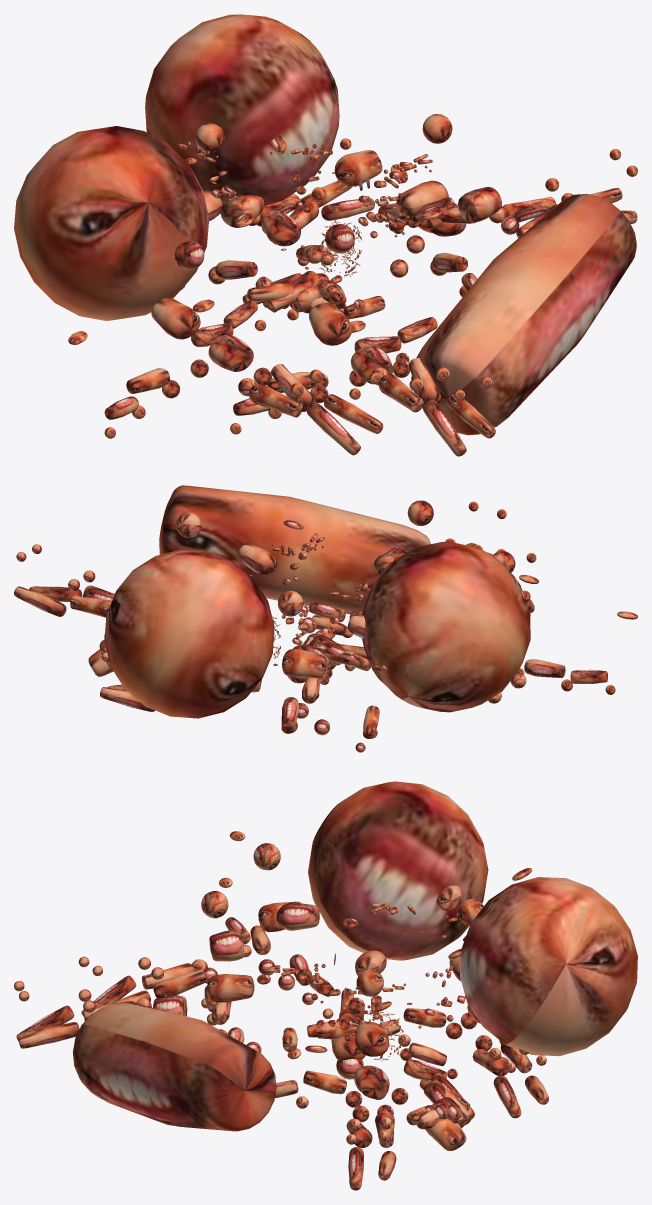
Rendered from SEPERATED_scene_1.1.2_asset.fbx.
The picture shows the model from 3 angles, top to bottom: view 1: azimuth 30°, elevation 25°; view 2: azimuth 150°, elevation 25°; view 3: azimuth 270°, elevation 25°; orthographic projection. The views are drawn at different scales.
Visible parts, largest first — view 1: polySurface607, polySurface613, polySurface608, polySurface705, polySurface676, polySurface648, polySurface583, polySurface731, polySurface641, polySurface761, polySurface699, polySurface724 (+20 smaller); view 2: polySurface608, polySurface607, polySurface613, polySurface709, polySurface583, polySurface537, polySurface727, polySurface589, polySurface691, polySurface760, polySurface695, polySurface574 (+9 smaller); view 3: polySurface608, polySurface607, polySurface613, polySurface676, polySurface761, polySurface731, polySurface648, polySurface641, polySurface586, polySurface726, polySurface599, polySurface646 (+11 smaller).
Boxes of the visible parts, x1,y1,x2,y2 form: polySurface607: (14,126,209,320); polySurface613: (411,194,636,435); polySurface608: (145,14,339,205); polySurface705: (151,297,200,339); polySurface676: (309,303,352,345); polySurface648: (396,180,448,216); polySurface583: (334,150,382,186); polySurface731: (208,334,253,371); polySurface641: (458,187,501,222); polySurface761: (261,210,300,246); polySurface699: (307,402,360,455); polySurface724: (249,383,302,417); polySurface608: (104,549,274,718); polySurface607: (361,542,530,712); polySurface613: (159,485,430,614); polySurface709: (282,649,326,677); polySurface583: (237,544,277,574); polySurface537: (14,586,66,616); polySurface727: (524,659,565,677); polySurface589: (70,595,111,617); polySurface691: (100,687,154,711); polySurface760: (407,500,433,525); polySurface695: (281,697,299,733); polySurface574: (29,586,82,601); polySurface608: (460,877,637,1056); polySurface607: (308,781,488,960); polySurface613: (72,1003,276,1131); polySurface676: (207,974,254,1002); polySurface761: (276,902,319,930); polySurface731: (209,930,244,961); polySurface648: (355,1021,388,1056); polySurface641: (354,1065,389,1098); polySurface586: (18,1022,79,1048); polySurface726: (153,969,207,997); polySurface599: (425,1118,466,1150); polySurface646: (303,1070,346,1094).
Size of the model in its own units: 13164 by 4697 by 12218.
